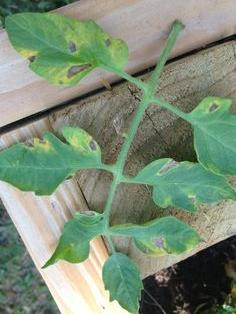Tomato Early blight leaf: (9, 12, 127, 87), (6, 126, 105, 192), (131, 157, 236, 213), (37, 206, 105, 278), (115, 216, 210, 255), (98, 252, 145, 313)
